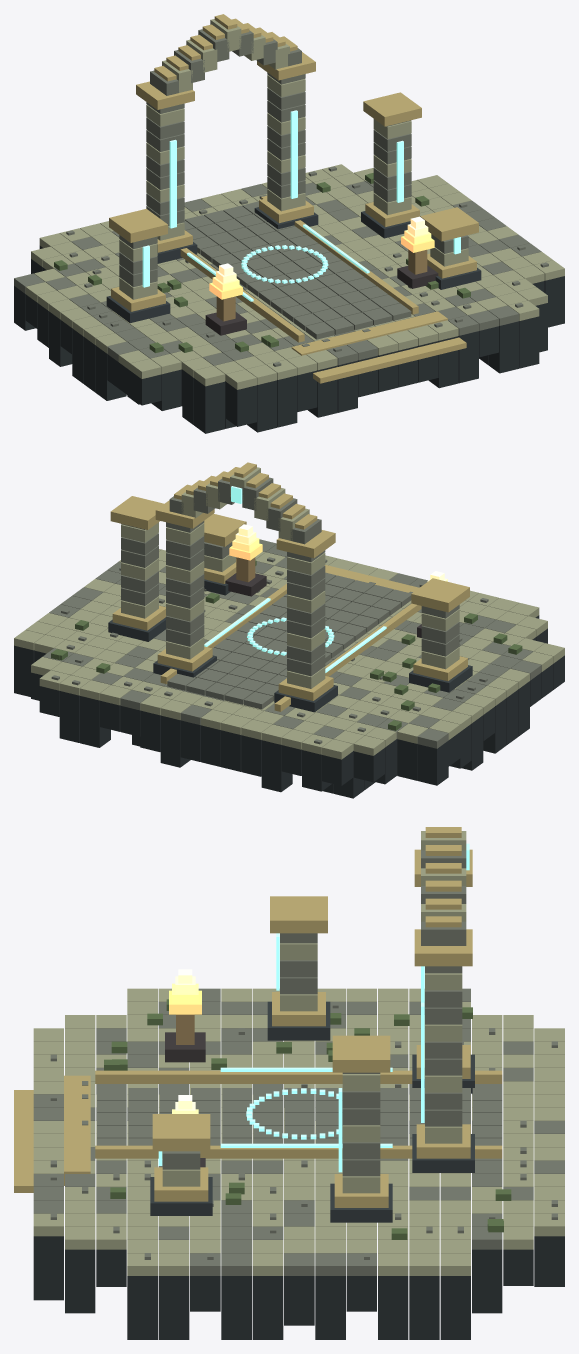
File: preview-ruins.glb
3 renders of one model, top to bottom at view 1: azimuth 30°, elevation 25°; view 2: azimuth 150°, elevation 25°; view 3: azimuth 270°, elevation 25°, orthographic. The views are drawn at different scales.
Parts seen in each view (by area): view 1: Terrain, Floating_Bedrock, Carved_Pillars, Causeway, Pillar_Plinths, Pillar_Capitals, Stepped_Arch, Front_Stairs, Pillar_Runes, Causeway_Edge, Brazier, Arch_Crown (+5 smaller); view 2: Terrain, Floating_Bedrock, Carved_Pillars, Causeway, Pillar_Plinths, Pillar_Capitals, Stepped_Arch, Causeway_Edge, Moss, Arch_Crown, Surface_Chips, Brazier (+4 smaller); view 3: Terrain, Floating_Bedrock, Carved_Pillars, Causeway, Pillar_Plinths, Pillar_Capitals, Causeway_Edge, Front_Stairs, Stepped_Arch, Moss, Arch_Crown, Surface_Chips (+5 smaller).
Boxes of the visible parts, x1,y1,x2,y2 form: Terrain: [14, 164, 564, 389]; Floating_Bedrock: [14, 245, 564, 433]; Carved_Pillars: [119, 72, 468, 299]; Causeway: [184, 201, 411, 339]; Pillar_Plinths: [106, 198, 481, 323]; Pillar_Capitals: [109, 52, 478, 242]; Stepped_Arch: [150, 19, 301, 95]; Front_Stairs: [291, 311, 466, 383]; Pillar_Runes: [142, 110, 460, 287]; Causeway_Edge: [180, 195, 418, 342]; Brazier: [205, 249, 438, 335]; Arch_Crown: [154, 14, 297, 81]; Terrain: [14, 539, 564, 759]; Floating_Bedrock: [14, 615, 564, 798]; Carved_Pillars: [121, 521, 459, 688]; Causeway: [167, 572, 411, 709]; Pillar_Plinths: [108, 559, 472, 712]; Pillar_Capitals: [110, 496, 469, 612]; Stepped_Arch: [169, 467, 321, 544]; Causeway_Edge: [160, 583, 421, 711]; Moss: [51, 560, 522, 730]; Arch_Crown: [174, 462, 317, 529]; Surface_Chips: [51, 557, 488, 744]; Brazier: [225, 557, 421, 637]; Terrain: [33, 988, 564, 1275]; Floating_Bedrock: [33, 1236, 564, 1339]; Carved_Pillars: [162, 933, 462, 1193]; Causeway: [97, 1088, 502, 1145]; Pillar_Plinths: [150, 992, 474, 1222]; Pillar_Capitals: [152, 849, 472, 1151]; Causeway_Edge: [95, 1070, 502, 1158]; Front_Stairs: [14, 1075, 90, 1192]; Stepped_Arch: [421, 831, 466, 945]; Moss: [104, 999, 511, 1239]; Arch_Crown: [425, 827, 461, 927]; Surface_Chips: [50, 1001, 557, 1259].
Bounding box in the file's own units: 8.39 × 5.14 × 7.04.
